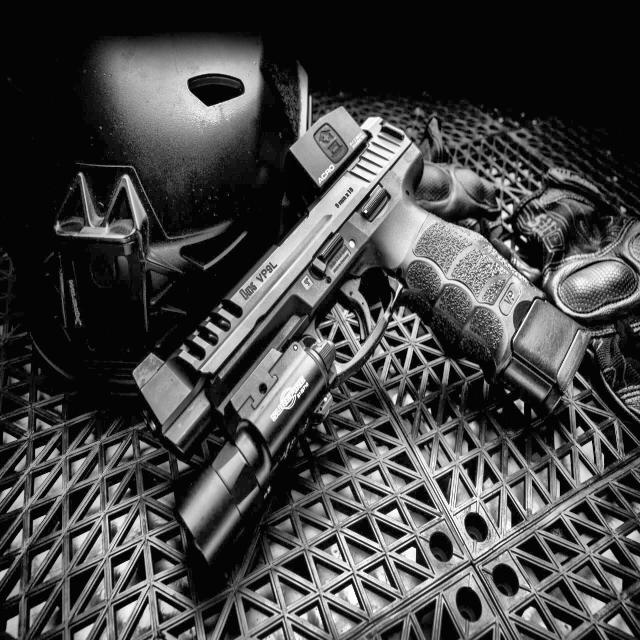HKVP9: (128, 102, 592, 581)
